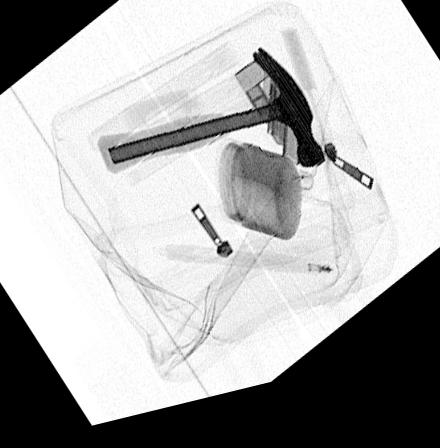Hammer: (95, 56, 326, 184)
